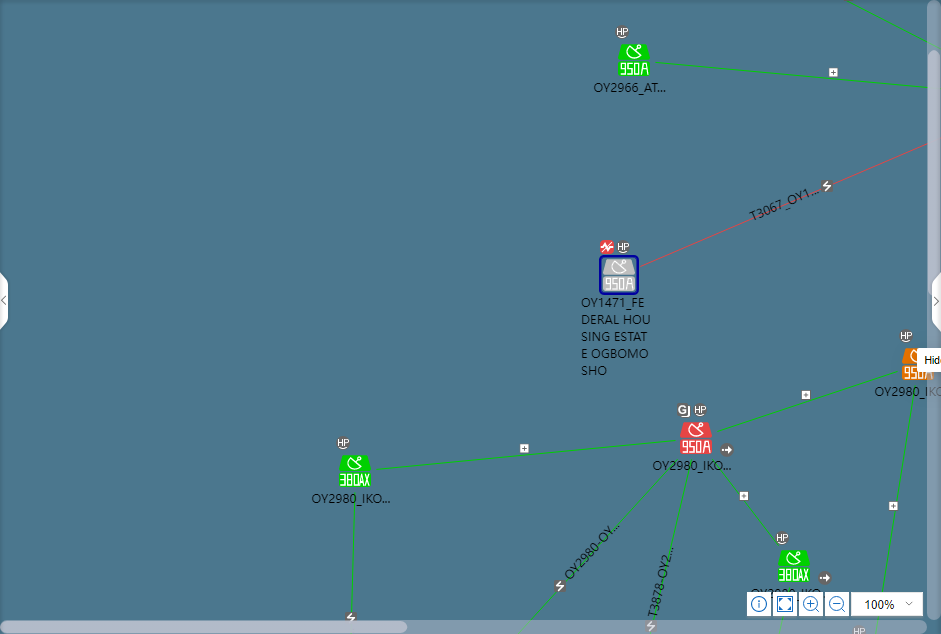Link_Green: (527, 459, 680, 621), (715, 370, 896, 435), (373, 439, 677, 471), (654, 60, 927, 90), (880, 385, 919, 592), (649, 460, 695, 621), (710, 459, 784, 552), (842, 0, 940, 52), (348, 494, 357, 613)
Link_Red: (640, 142, 927, 270)
RTN_Gray: (600, 258, 637, 293)
RTN_Green: (778, 551, 809, 583), (339, 456, 370, 488), (619, 44, 649, 76)
RTN_Orange: (901, 349, 931, 380)
RTN_Red: (680, 423, 711, 454)
